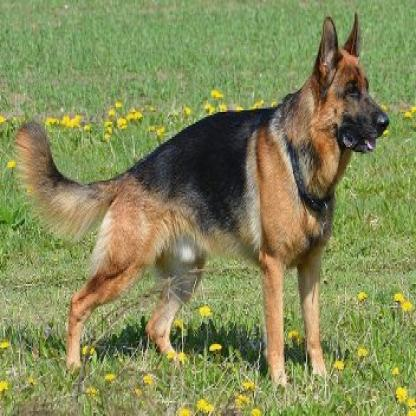dog: (21, 15, 390, 383)
